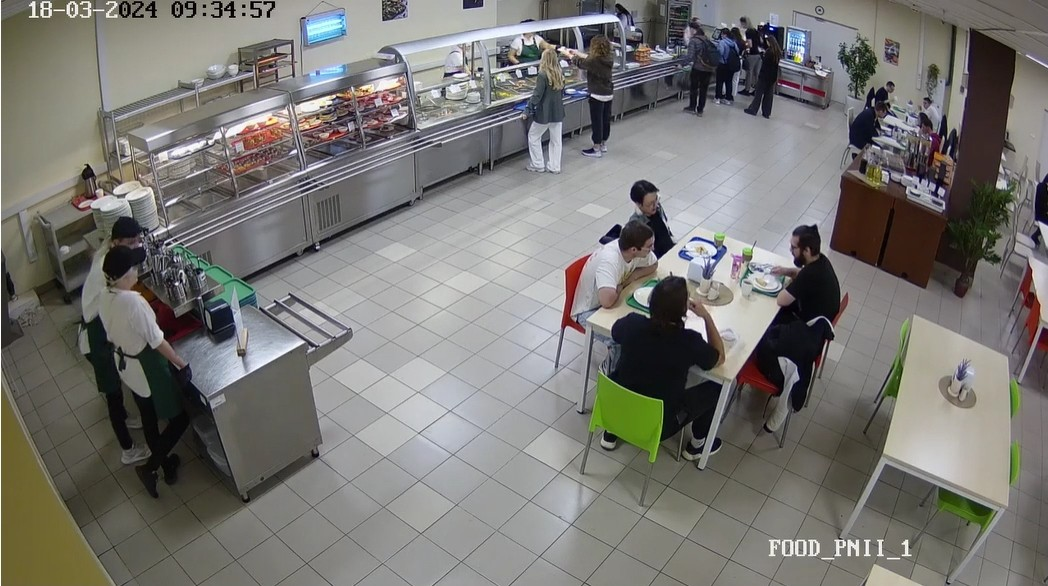Na_Kasse: (746, 35, 781, 114), (683, 20, 709, 110), (738, 5, 762, 80), (717, 21, 734, 98)
Personal: (101, 242, 193, 502), (79, 207, 157, 465), (500, 19, 537, 68), (444, 36, 466, 81), (611, 2, 635, 25), (677, 15, 699, 36)
Vybiraet: (520, 45, 574, 193), (581, 26, 626, 145)
Za_Stolom: (583, 277, 711, 487), (566, 226, 664, 358), (747, 213, 840, 337), (619, 176, 671, 241), (847, 103, 886, 160), (1024, 156, 1048, 243), (915, 116, 940, 160), (875, 74, 895, 102), (916, 88, 937, 109)
